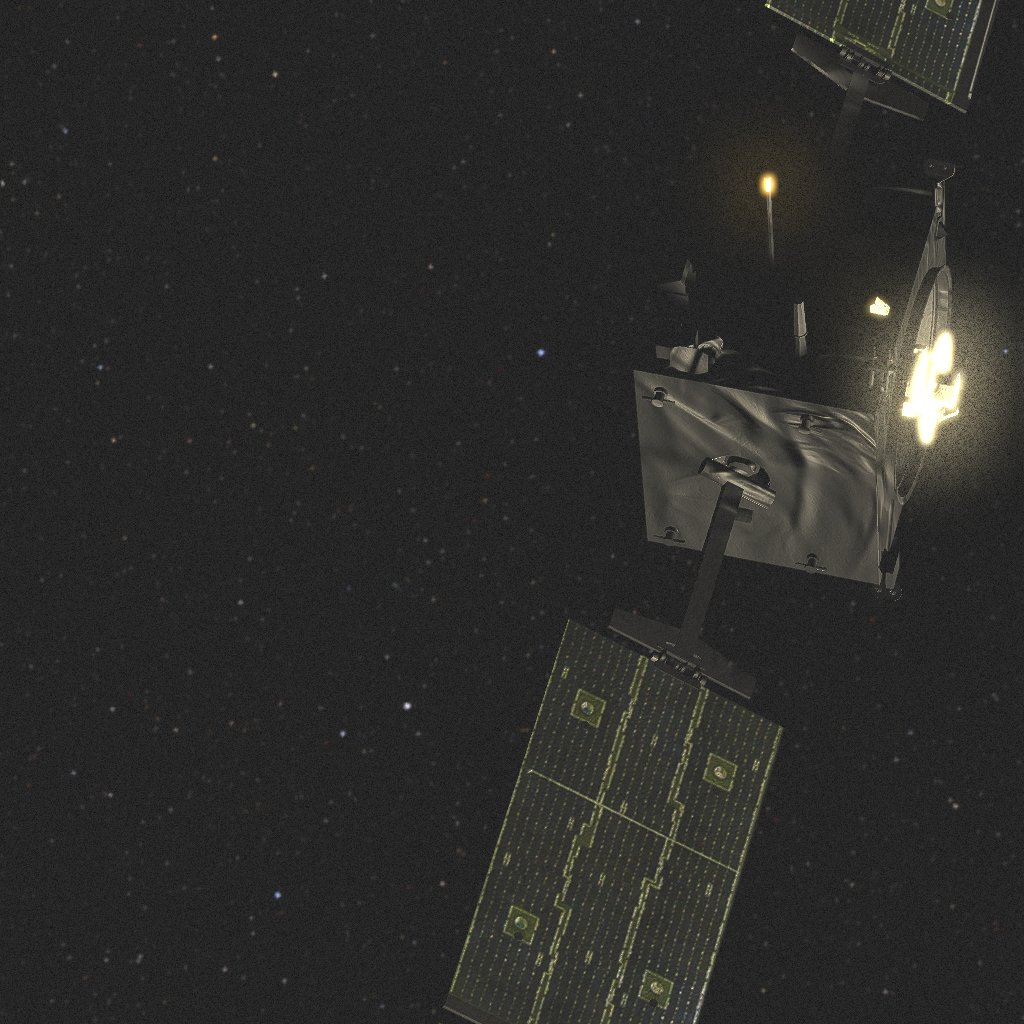smart_1: (450, 13, 993, 1014)
